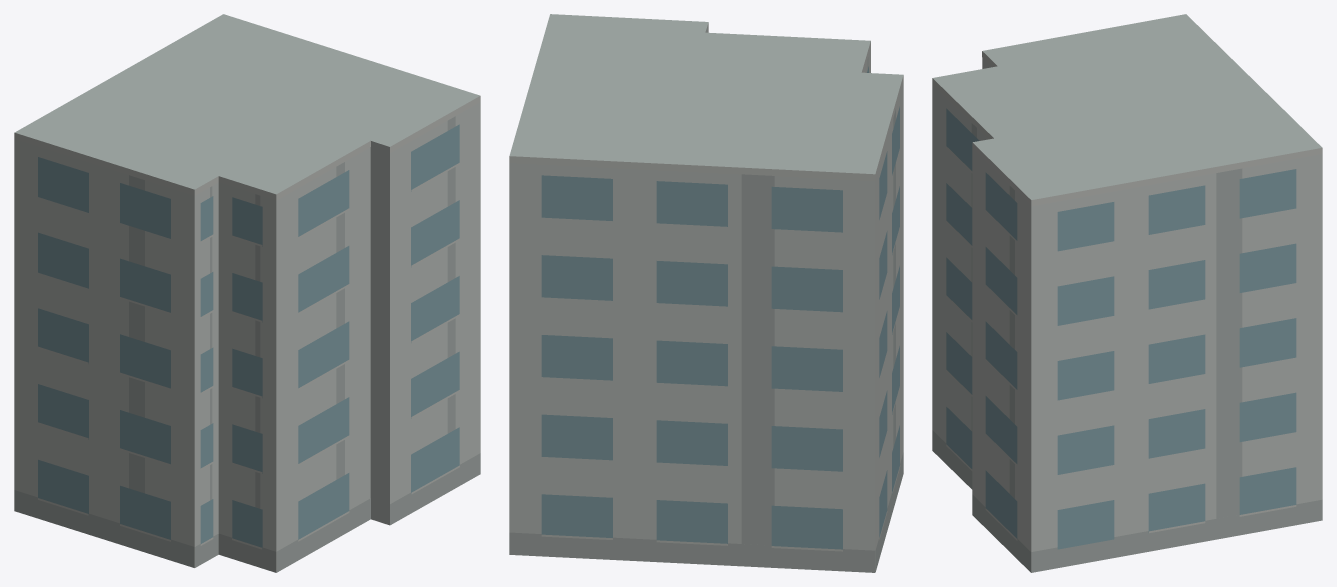
File: survey-upis-32826162.glb
3 views of the same model, side by side, from view 1: azimuth 30°, elevation 25°; view 2: azimuth 150°, elevation 25°; view 3: azimuth 270°, elevation 25° (orthographic). The views are drawn at different scales.
Parts seen in each view (by area): view 1: survey-upis-32826162.tmp; view 2: survey-upis-32826162.tmp; view 3: survey-upis-32826162.tmp.
Boxes of the visible parts, x1=… form: survey-upis-32826162.tmp: x1=14, y1=14, x2=480, y2=572; survey-upis-32826162.tmp: x1=509, y1=14, x2=903, y2=572; survey-upis-32826162.tmp: x1=932, y1=14, x2=1322, y2=572.
Bounding box in the file's own units: 15.54 × 14.5 × 13.76.
